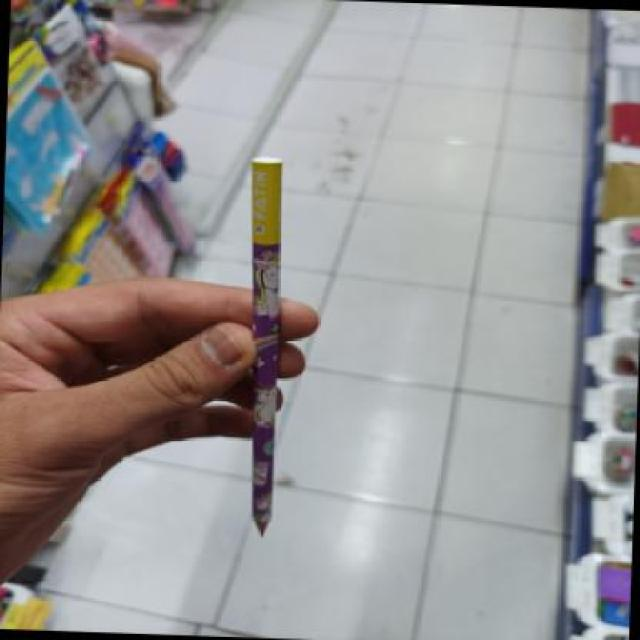pencil: (235, 154, 293, 537)
